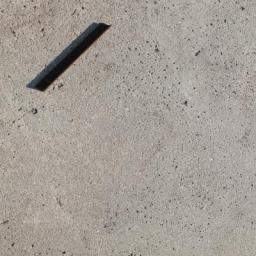FOD: (27, 21, 116, 95)
